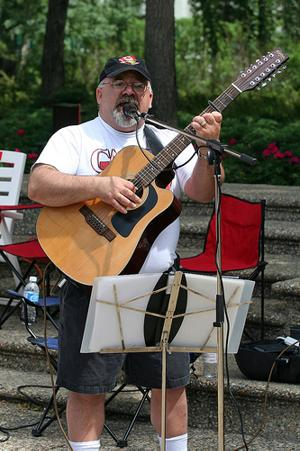person: (27, 54, 226, 450)
